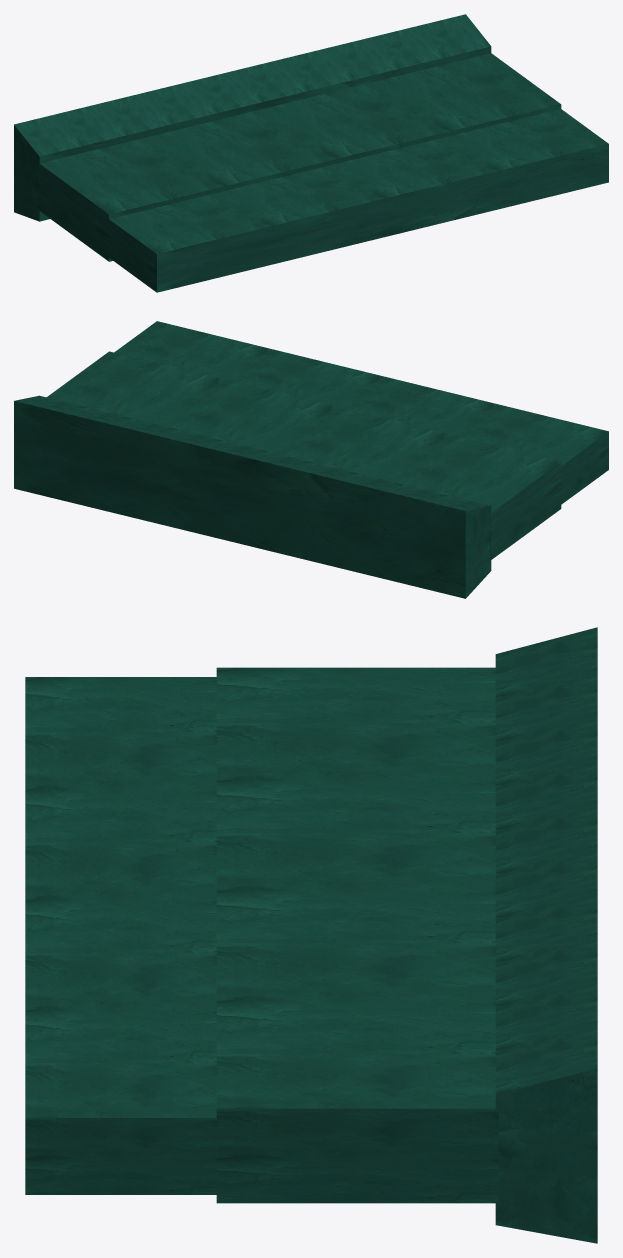
The model's file is wall1dp_wtf.obj.
3 views of the same model, one above another, from view 1: azimuth 30°, elevation 25°; view 2: azimuth 150°, elevation 25°; view 3: azimuth 270°, elevation 25° (orthographic). The views are drawn at different scales.
Visible parts, largest first — view 1: group2; view 2: group2; view 3: group2.
Boxes of the visible parts, x1=… form: group2: x1=14, y1=14, x2=608, y2=292; group2: x1=14, y1=321, x2=608, y2=598; group2: x1=25, y1=627, x2=597, y2=1243.
Bounding box in the file's own units: 660 × 123 × 362.
